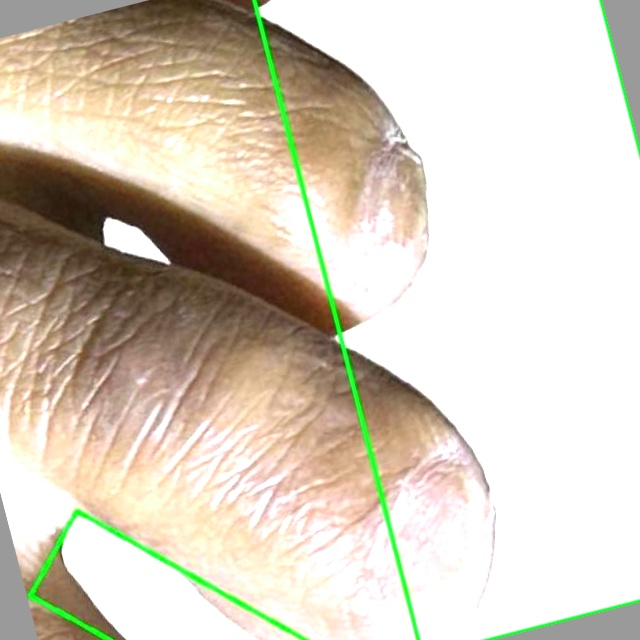Tinea Corporis: (254, 0, 639, 639), (30, 510, 306, 639)
